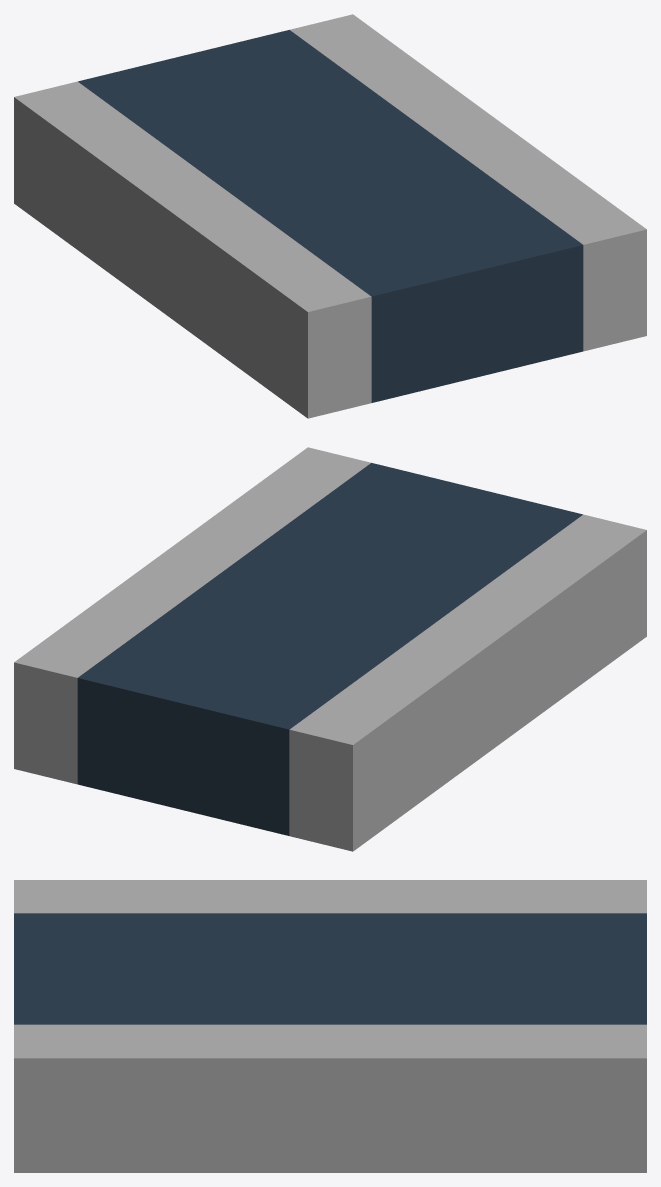
The model's file is road_part_01_s02.FBX.
The picture shows the model from 3 angles, top to bottom: view 1: azimuth 30°, elevation 25°; view 2: azimuth 150°, elevation 25°; view 3: azimuth 270°, elevation 25°; orthographic projection. The views are drawn at different scales.
Visible parts, largest first — view 1: road_part_01_s02; view 2: road_part_01_s02; view 3: road_part_01_s02.
Boxes of the visible parts, box(x1,y1,x2,y2) form: road_part_01_s02: box(14, 14, 646, 418); road_part_01_s02: box(14, 447, 646, 851); road_part_01_s02: box(14, 880, 646, 1172).
Bounding box in the file's own units: 333 × 500 × 100.
Materials: 1 (1 with a texture image).
